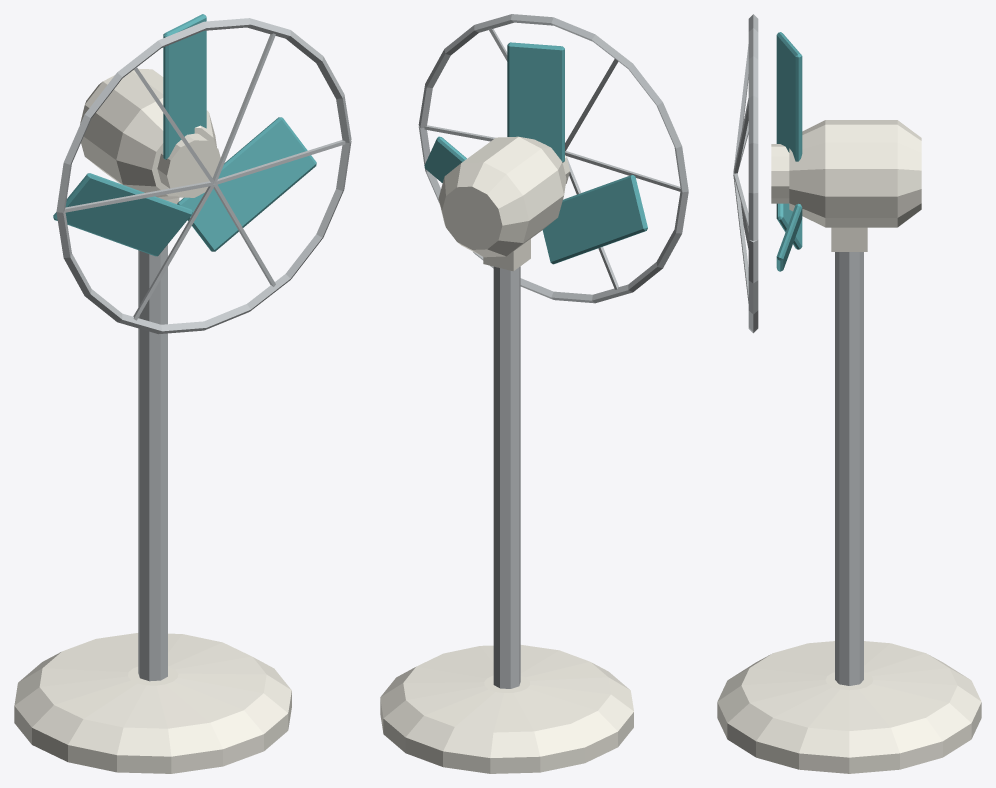
File: pedestal-fan.glb
3 renders of one model, left to right at view 1: azimuth 30°, elevation 25°; view 2: azimuth 150°, elevation 25°; view 3: azimuth 270°, elevation 25°, orthographic. The views are drawn at different scales.
Parts seen in each view (by area): view 1: base, head; view 2: base, head; view 3: base, head.
Part boxes in pixels (bbox=[...]): base: bbox=[14, 18, 351, 773]; head: bbox=[53, 14, 316, 256]; base: bbox=[380, 14, 688, 773]; head: bbox=[424, 42, 647, 264]; base: bbox=[717, 14, 981, 773]; head: bbox=[771, 32, 802, 271].
Bounding box in the file's own units: 0.268 × 0.634 × 0.22.
